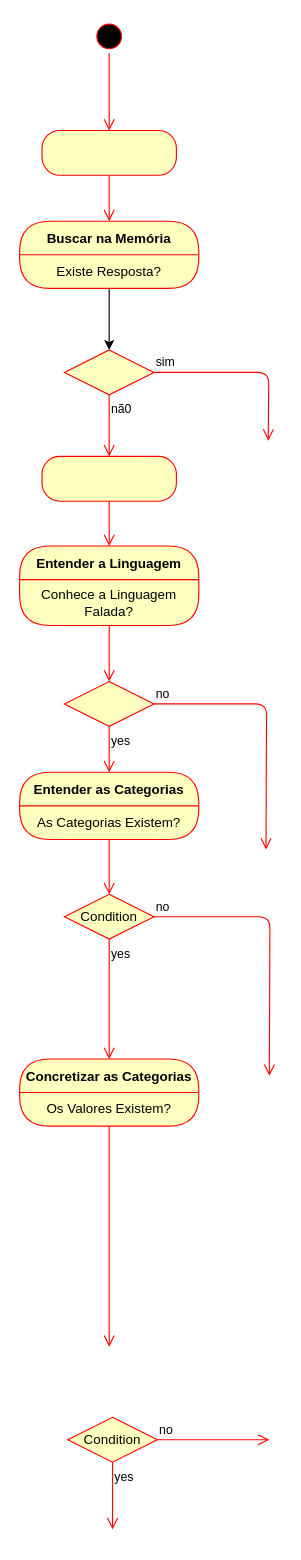
Some shapes in this 301 by 1560 pixel diagram are drawn without their labels. Each missing label, with the centre of its shape:
Armazenar: pixel 108 478
Comunicação: pixel 108 152
